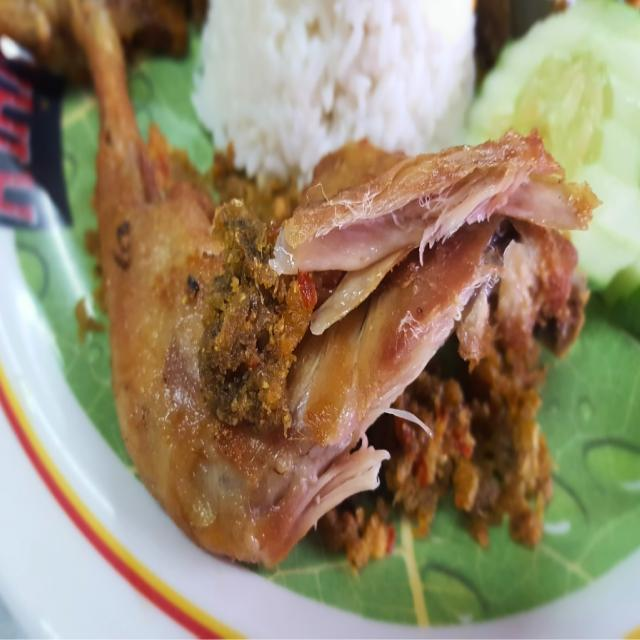Frango: (0, 0, 602, 571), (199, 0, 476, 176)
